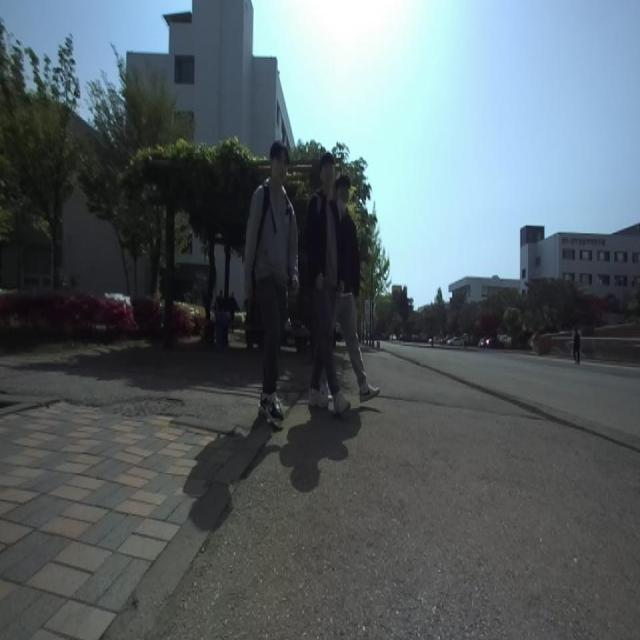sidewalk: (154, 352, 640, 639)
